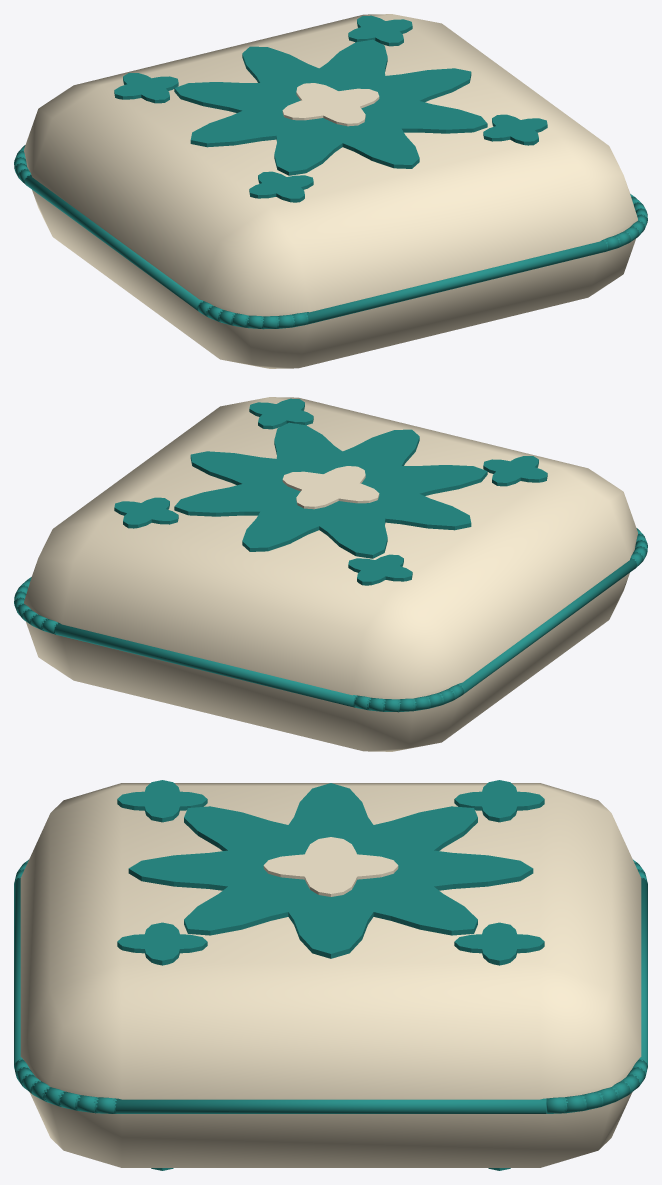
The model's file is quilt_pillow.glb.
3 renders of one model, top to bottom at view 1: azimuth 30°, elevation 25°; view 2: azimuth 150°, elevation 25°; view 3: azimuth 270°, elevation 25°, orthographic. The views are drawn at different scales.
Visible parts, largest first — view 1: quilt_pillow; view 2: quilt_pillow; view 3: quilt_pillow.
Boxes of the visible parts, x1,y1,x2,y2 form: quilt_pillow: [14, 14, 647, 368]; quilt_pillow: [14, 397, 647, 751]; quilt_pillow: [14, 780, 647, 1170].
Bounding box in the file's own units: 0.94 × 0.36 × 0.94.
